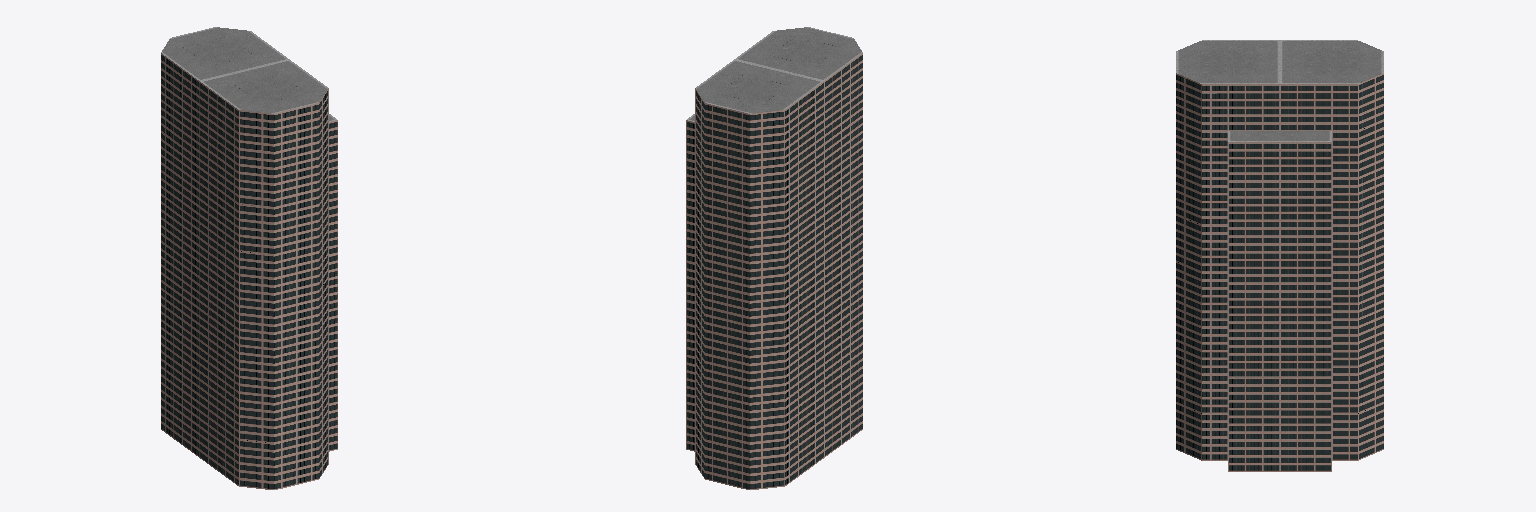
The picture shows the model from 3 angles: view 1: azimuth 30°, elevation 25°; view 2: azimuth 150°, elevation 25°; view 3: azimuth 270°, elevation 25°; orthographic projection.
Parts seen in each view (by area): view 1: Building_octagonLongTier; view 2: Building_octagonLongTier; view 3: Building_octagonLongTier.
Boxes of the visible parts, box(x1,y1,x2,y2) form: Building_octagonLongTier: box(161, 27, 337, 489); Building_octagonLongTier: box(686, 27, 862, 489); Building_octagonLongTier: box(1176, 40, 1383, 471).
Bounding box in the file's own units: 24.78 × 79.3 × 39.65.
Materials: 1 (1 with a texture image).